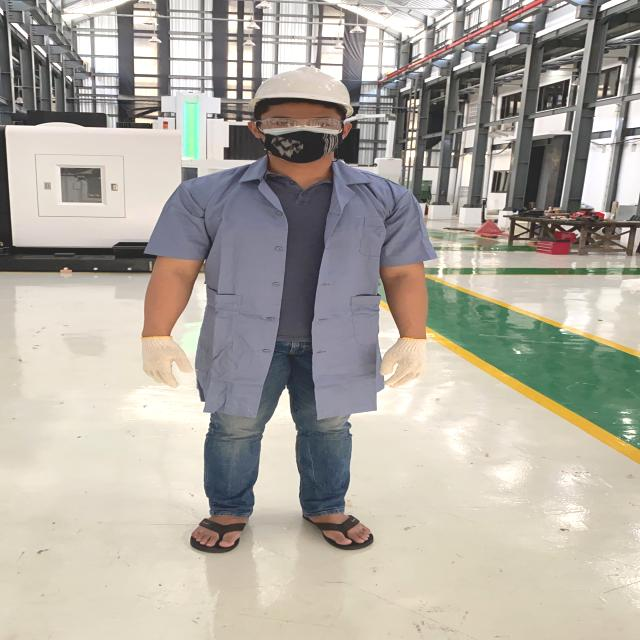face_mask: (252, 114, 346, 164)
glasses: (250, 116, 347, 134)
hand_glove: (129, 328, 202, 392), (370, 335, 436, 390)
head_helmet: (236, 65, 360, 111)
person: (136, 64, 441, 566)
